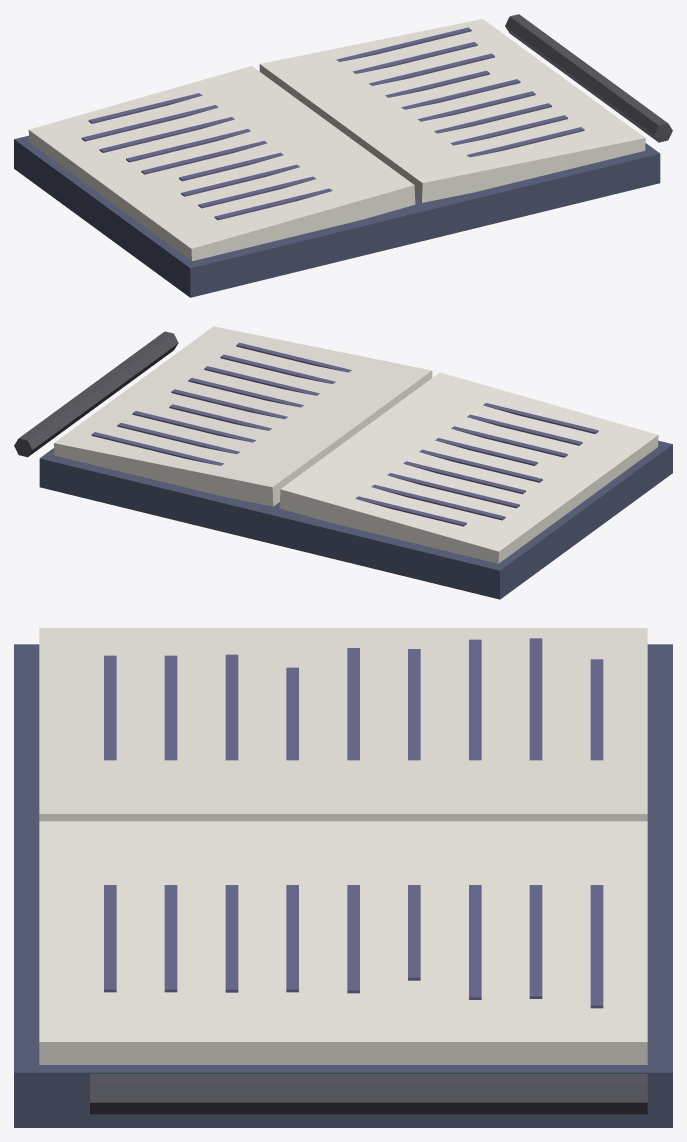
Rendered from police_notebook_a.glb.
The picture shows the model from 3 angles, top to bottom: view 1: azimuth 30°, elevation 25°; view 2: azimuth 150°, elevation 25°; view 3: azimuth 270°, elevation 25°; orthographic projection. The views are drawn at different scales.
Visible parts, largest first — view 1: body; view 2: body; view 3: body.
Boxes of the visible parts, bbox=[...] form: body: bbox=[14, 14, 672, 297]; body: bbox=[14, 326, 672, 599]; body: bbox=[14, 628, 672, 1127].
Bounding box in the file's own units: 0.214 × 0.0209 × 0.13.
